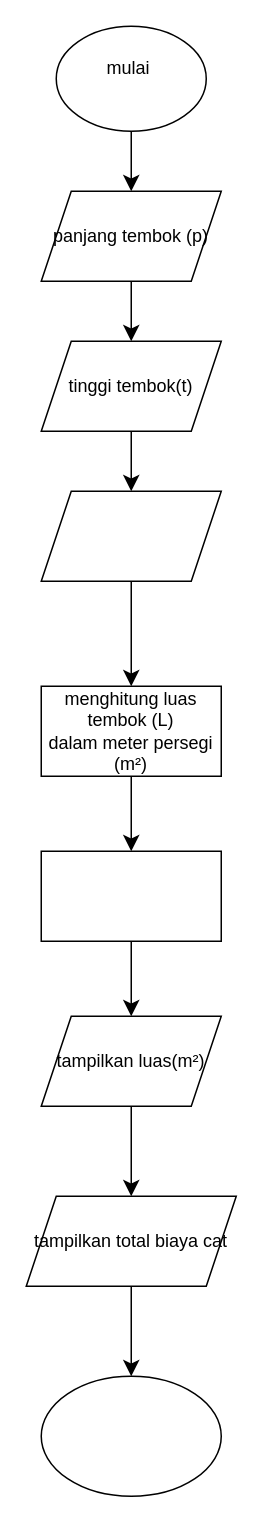
This 263x1523 diagram has some shape labels left out. Here are the shapes that lost their labels. From the top down, the centre of each, then its label:
At (130,535): "harga chat per meter persegi (m²)".
At (130,895): "menghitung total biaya pengecetan".
At (130,1435): "selesai".
